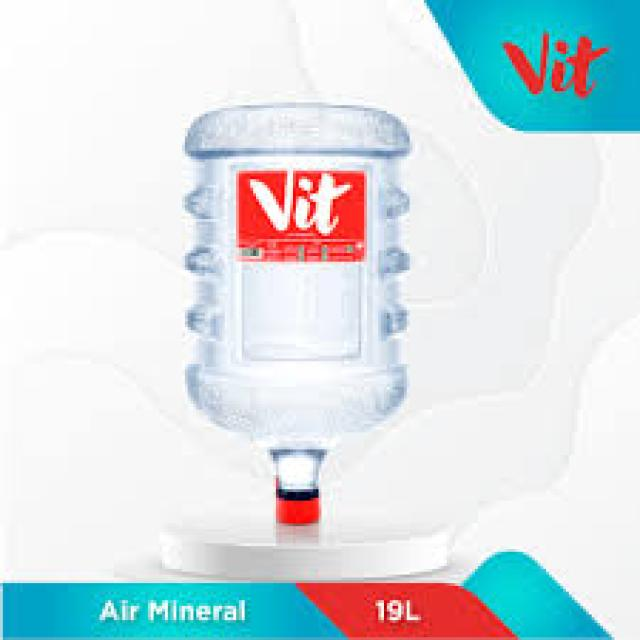Galon: (173, 105, 445, 536)
